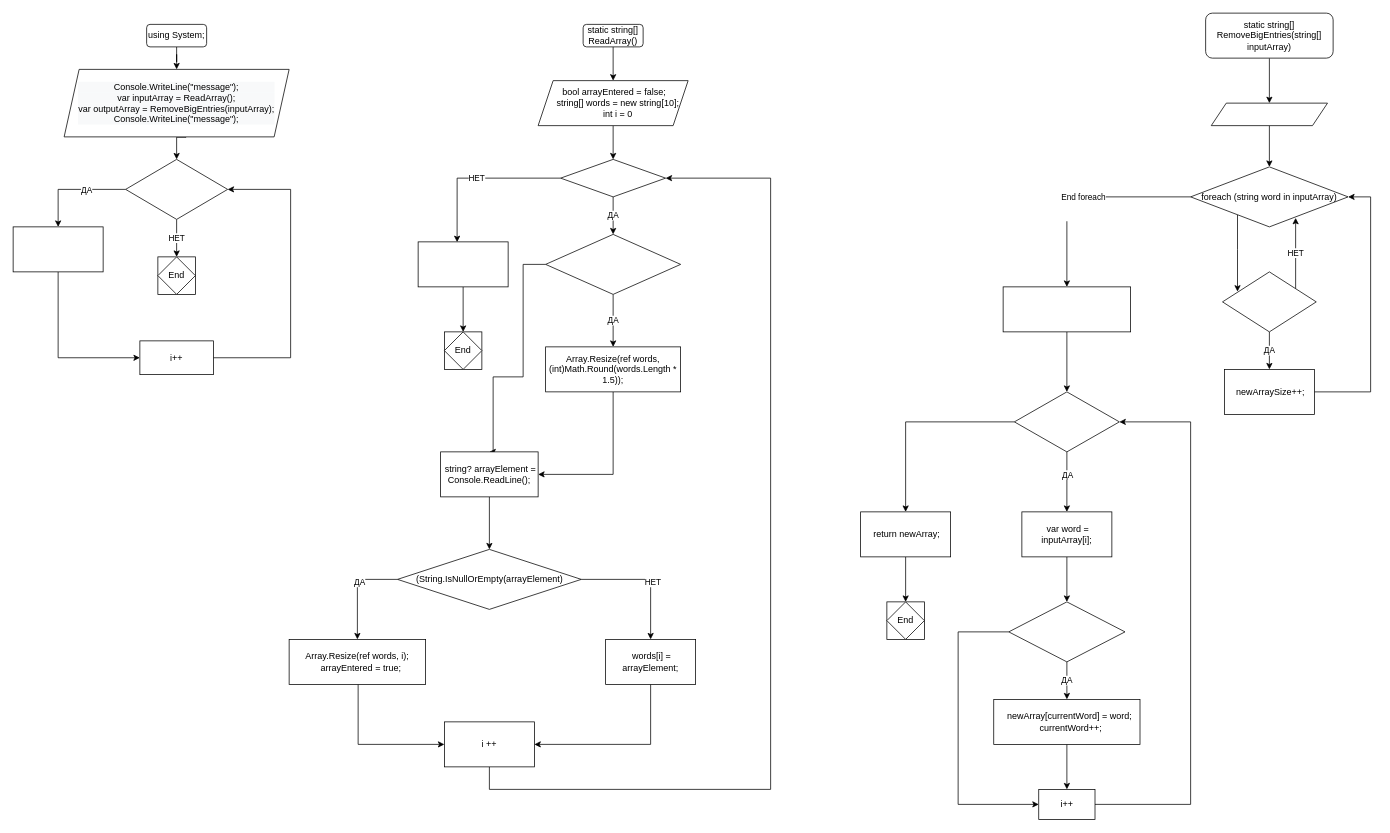
The diagram is 1390 pixels wide and 833 high, and some of its shapes have lost their labels. Here are the shapes that lost their labels. From the top down, the centre of each, then its label:
point (1269, 114): int newArraySize = 0;
point (176, 189): i < outputArray.Length?
point (613, 178): !arrayEntered ?
point (57, 249): Console.Write($" \"{outputArray[i]}\"; ");
point (462, 264): return words:
point (613, 264): i + 1 >= words.Length?
point (1066, 309): string[] newArray = new string[newArraySize]; int currentWord = 0; int i = 0
point (1269, 301): word.Length <= 3
point (1066, 421): i < inputArray.Length?
point (1066, 631): word.Length <= 3?
